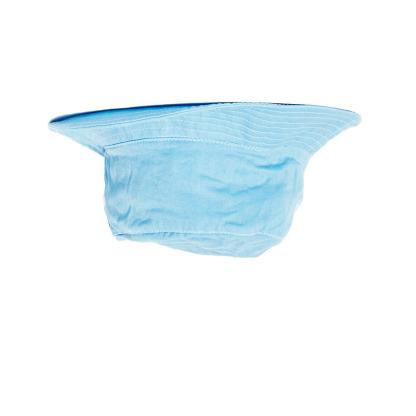hat: (44, 98, 370, 264)
